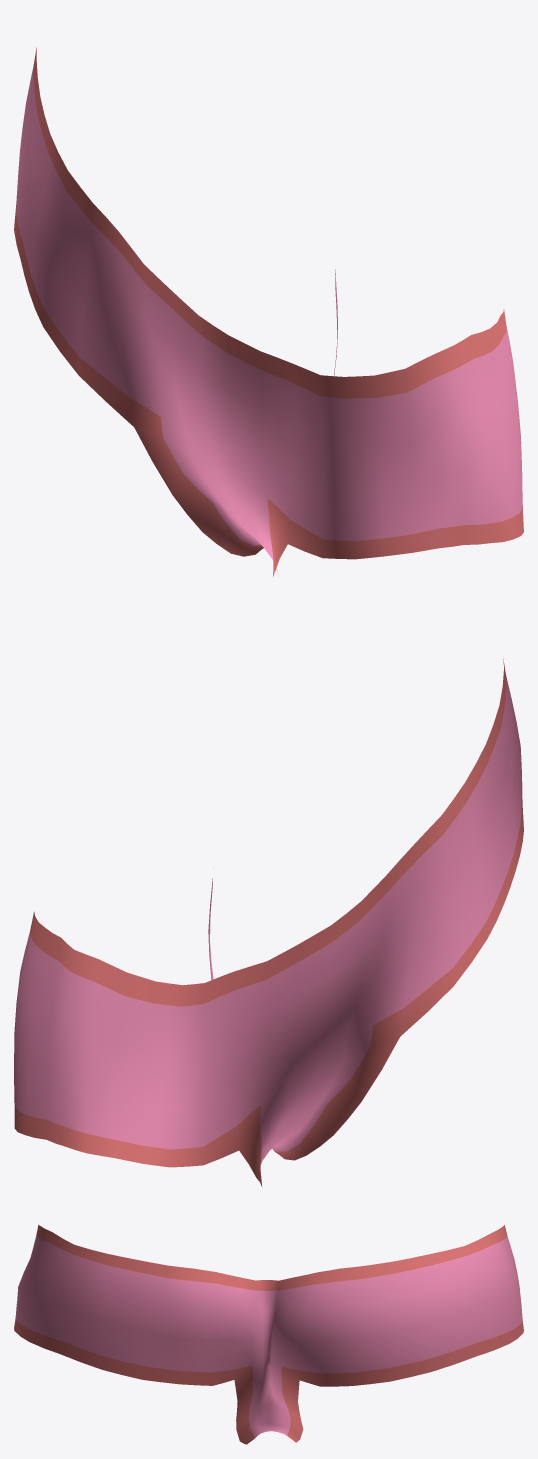
The model's file is panties.gltf.
3 views of the same model, one above another, from view 1: azimuth 30°, elevation 25°; view 2: azimuth 150°, elevation 25°; view 3: azimuth 270°, elevation 25° (orthographic). The views are drawn at different scales.
Parts seen in each view (by area): view 1: Panty; view 2: Panty; view 3: Panty.
Boxes of the visible parts, <box> form: Panty: <box>14,47,523,576</box>; Panty: <box>14,659,523,1186</box>; Panty: <box>14,1224,523,1444</box>.
Bounding box in the file's own units: 0.7394 × 1.83 × 3.85.
